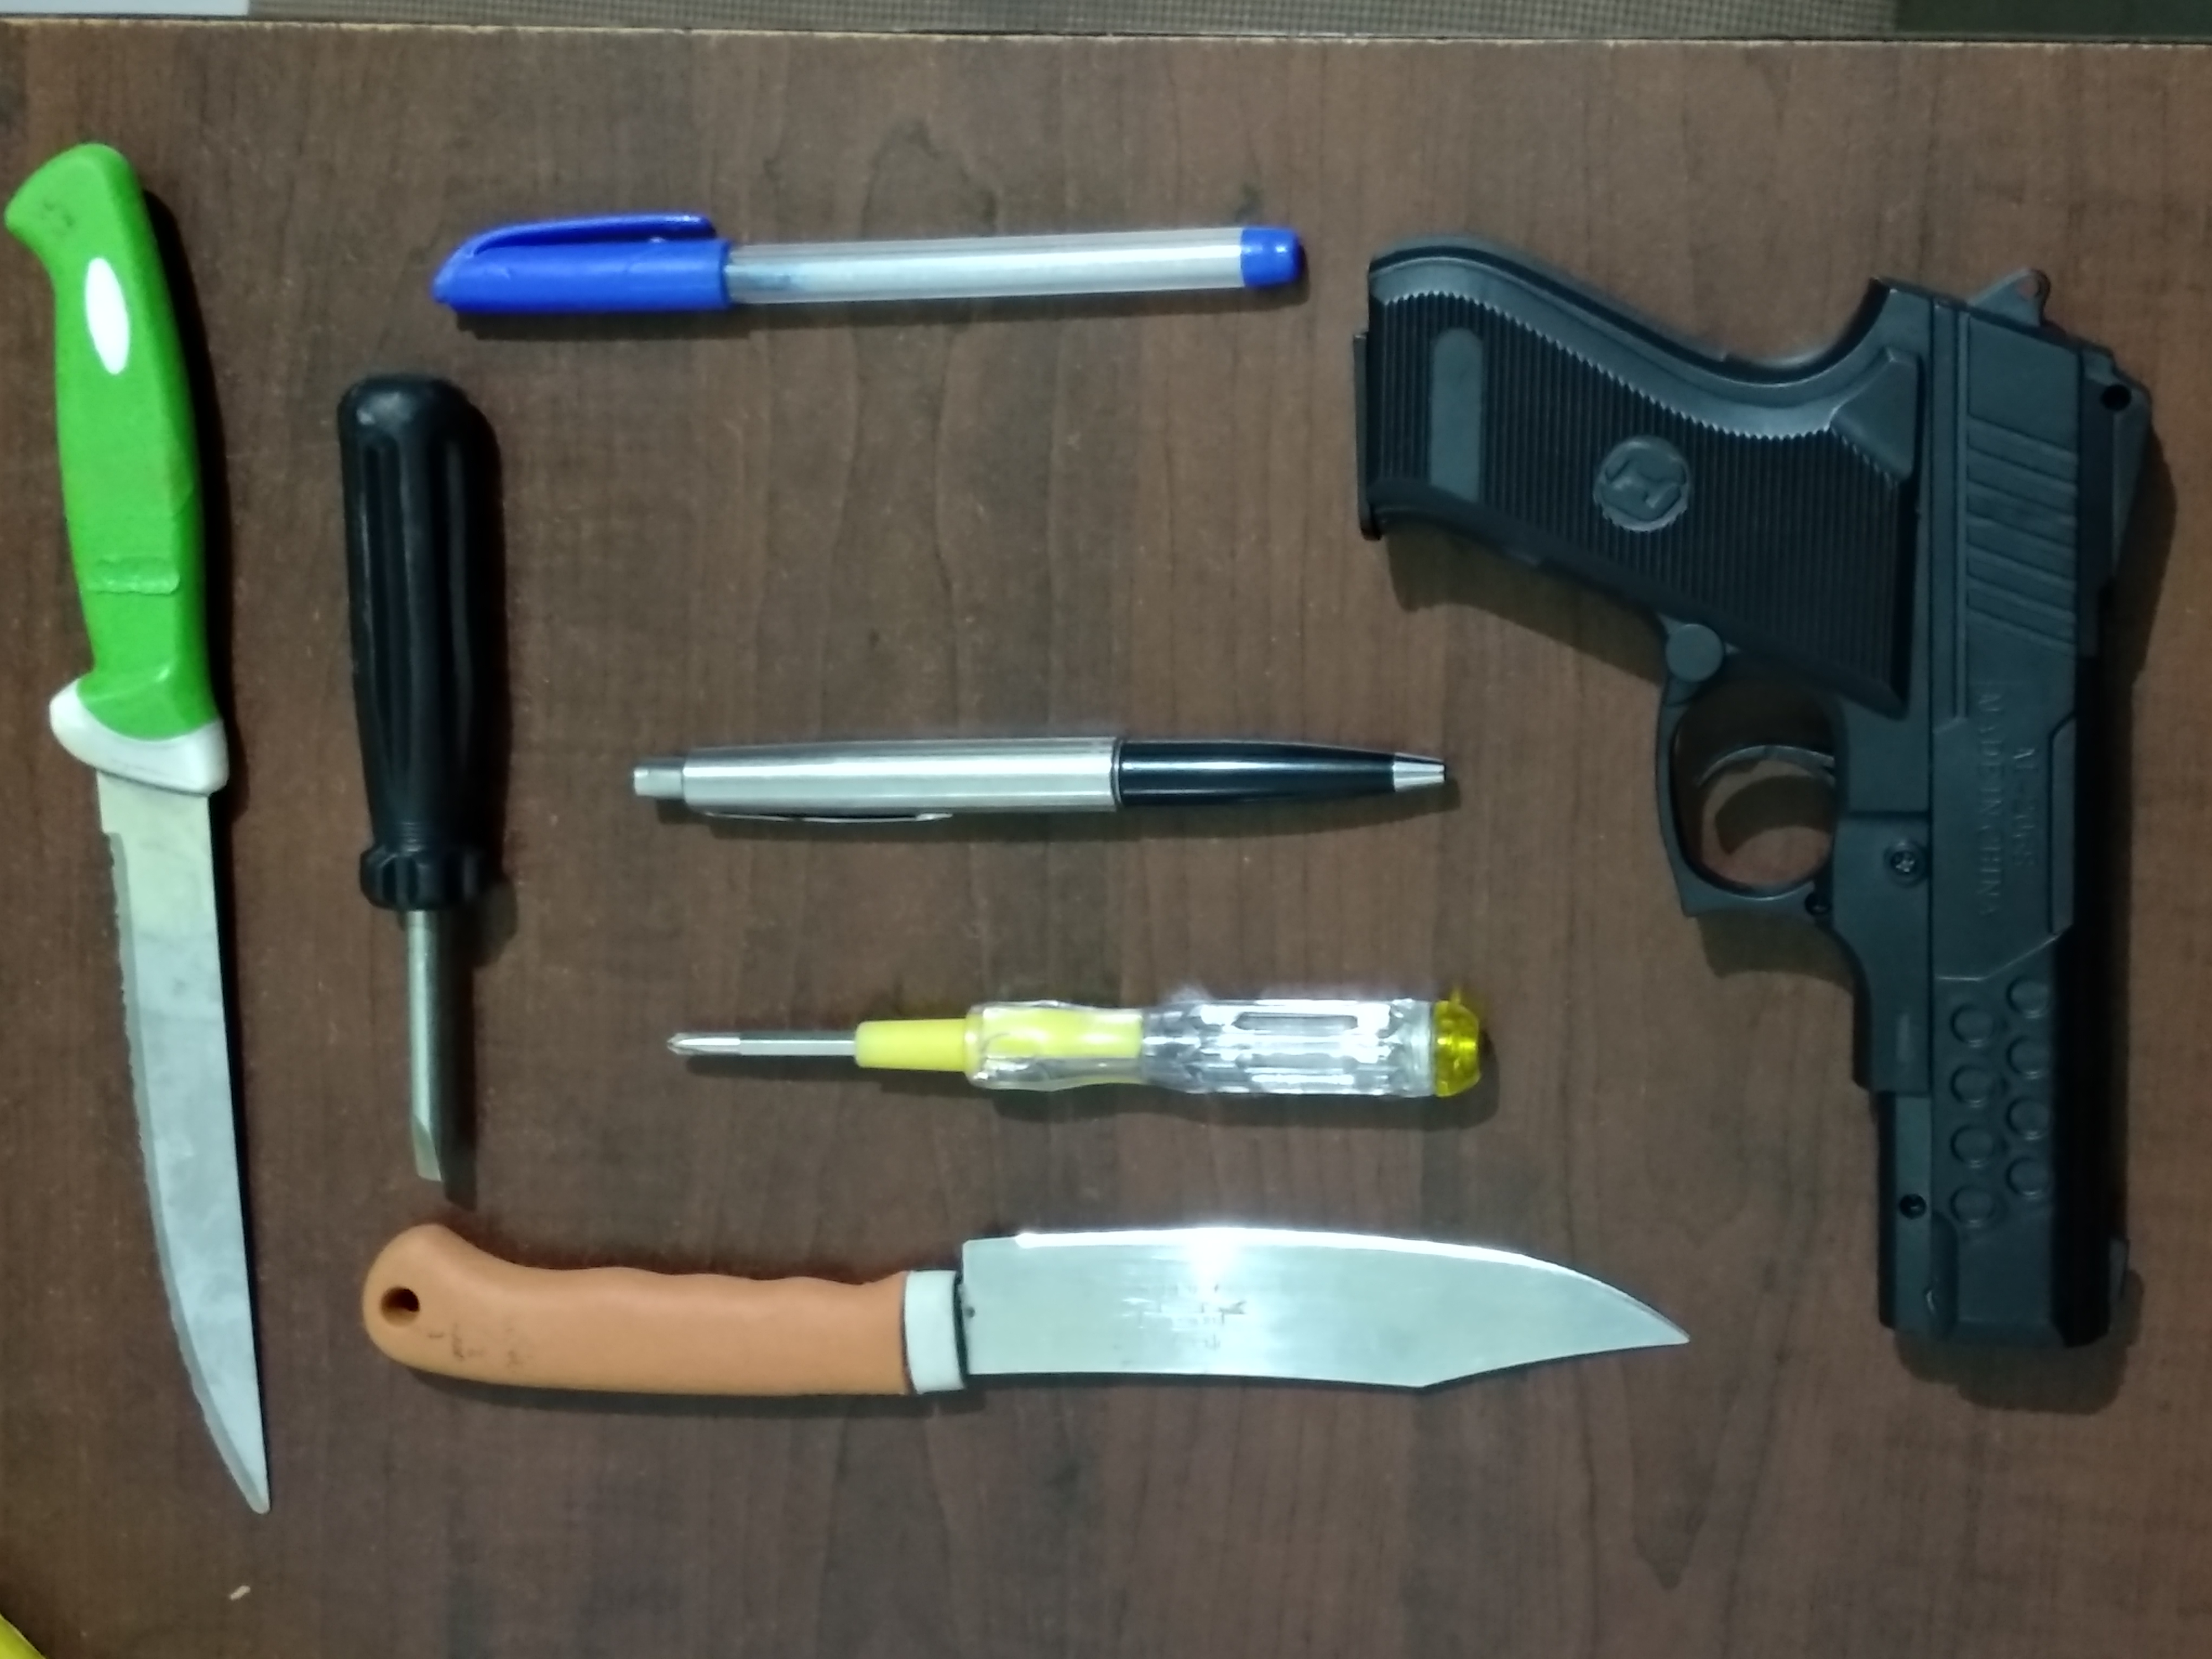gun: (1353, 216, 2125, 1375)
knife: (14, 131, 277, 1518), (350, 1206, 1705, 1422)
none: (408, 195, 1331, 324), (611, 728, 1474, 849)
none3: (331, 375, 496, 1194), (646, 985, 1494, 1124)
